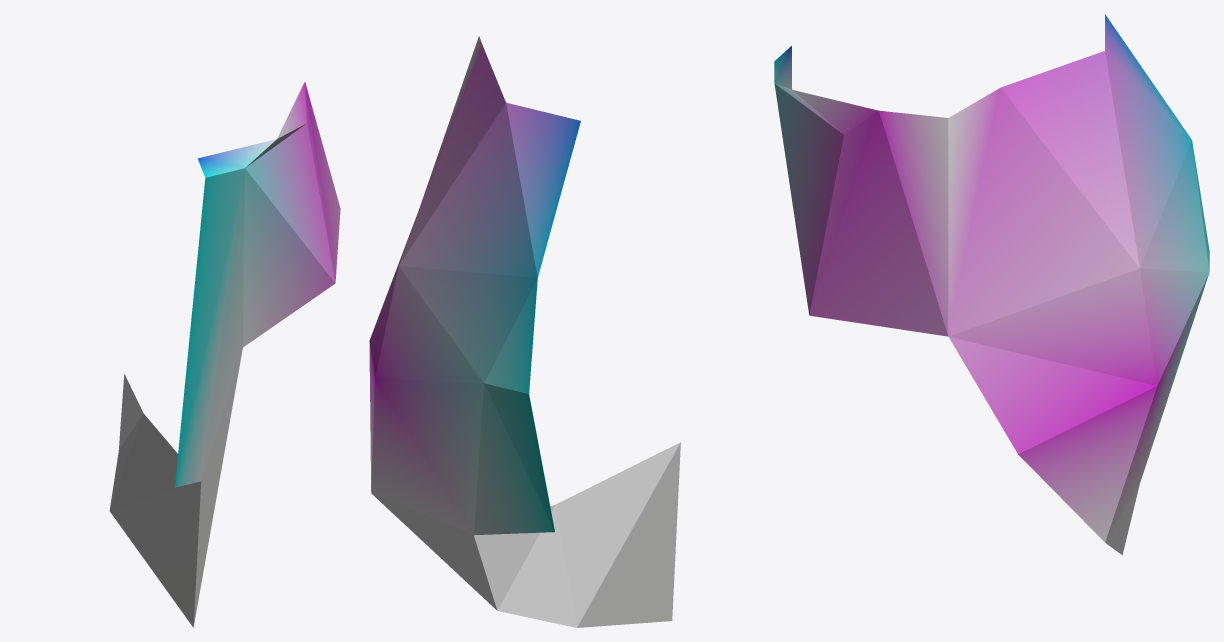
3 views of the same model, side by side, from view 1: azimuth 30°, elevation 25°; view 2: azimuth 150°, elevation 25°; view 3: azimuth 270°, elevation 25° (orthographic). The views are drawn at different scales.
Parts seen in each view (by area): view 1: model_1172; view 2: model_1172; view 3: model_1172.
Part boxes in pixels (box(x1,y1,x2,y2)): model_1172: box(109, 82, 340, 627); model_1172: box(369, 36, 680, 627); model_1172: box(774, 14, 1209, 555).
Bounding box in the file's own units: 17 × 38 × 25.
